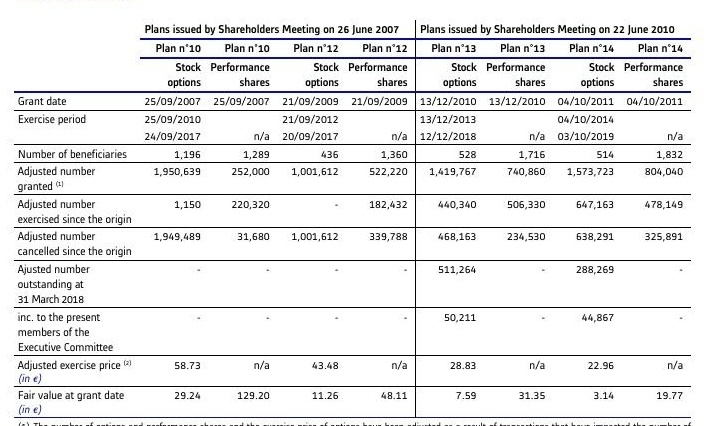table: (0, 0, 706, 426)
